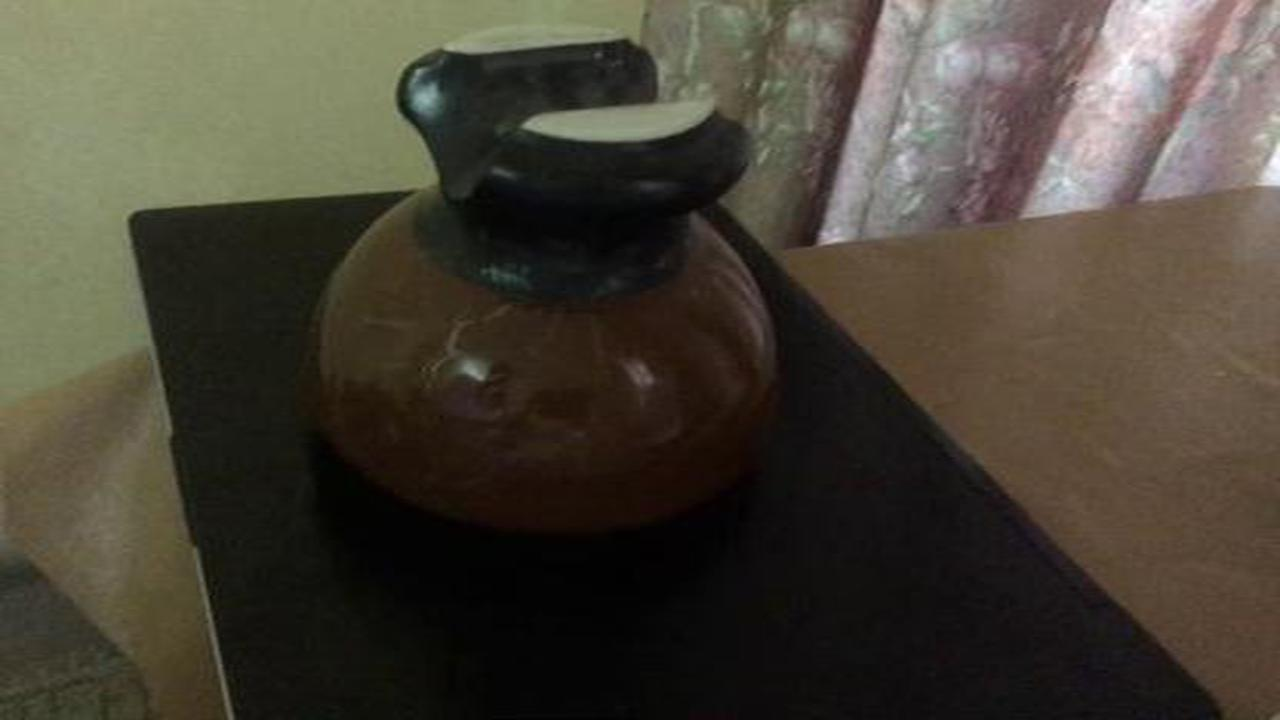insulator_pin: (293, 18, 816, 549)
